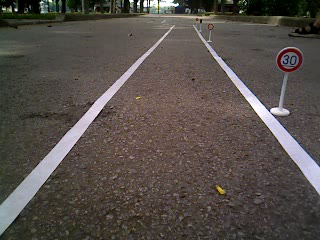limit 30: (275, 46, 304, 75)
